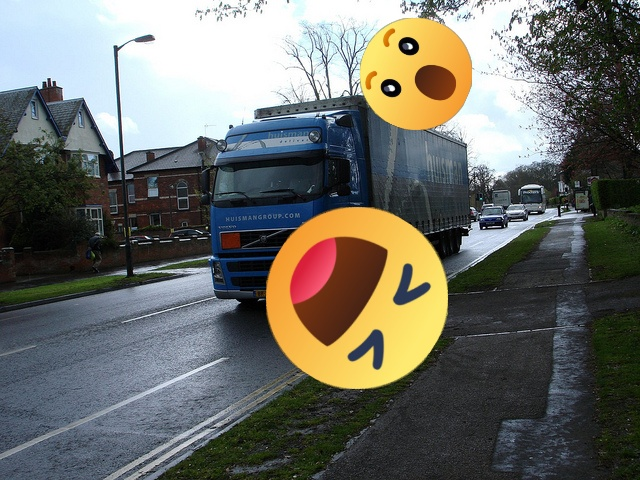haha: (266, 207, 448, 389)
wow: (360, 18, 472, 130)
